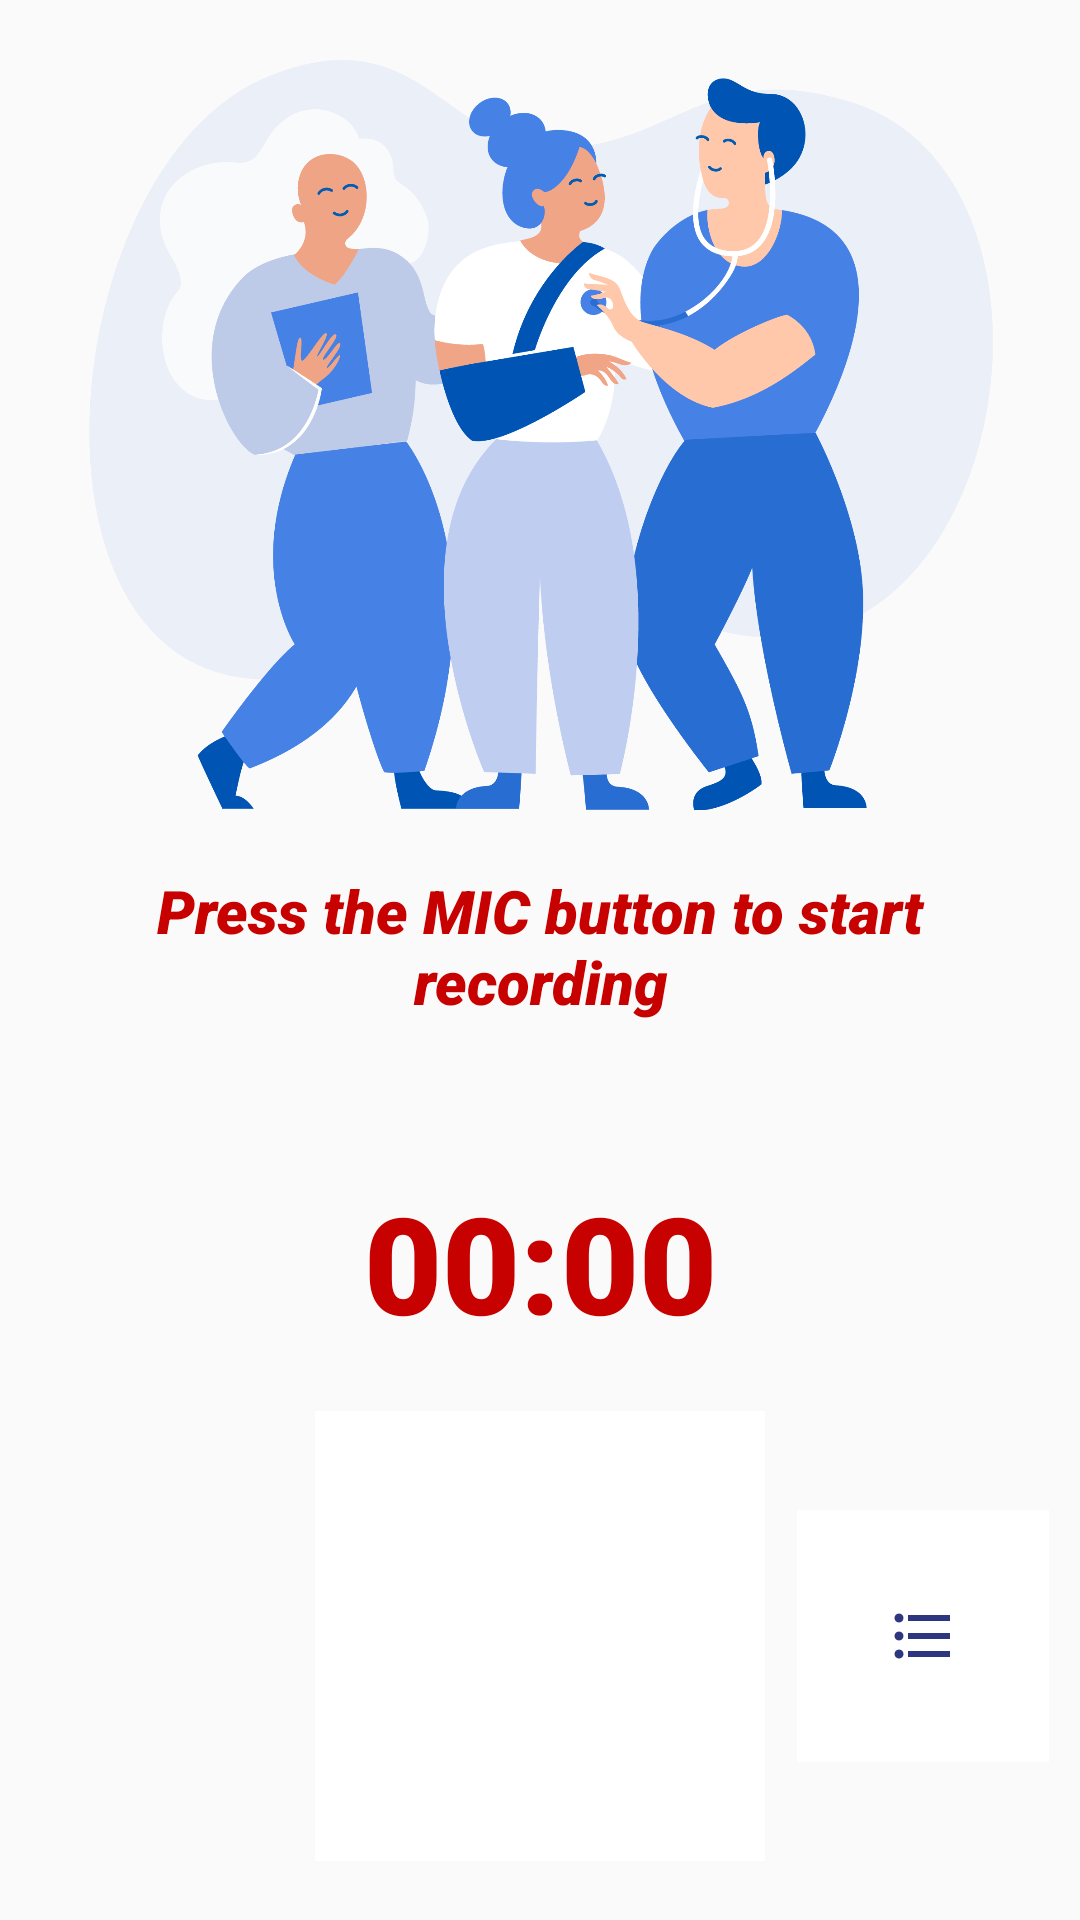

Named icons in this screenshot (1080 x 1920) and their bounding boxes, region(x1, y1, x2, y2):
list: region(894, 1613, 950, 1659)
